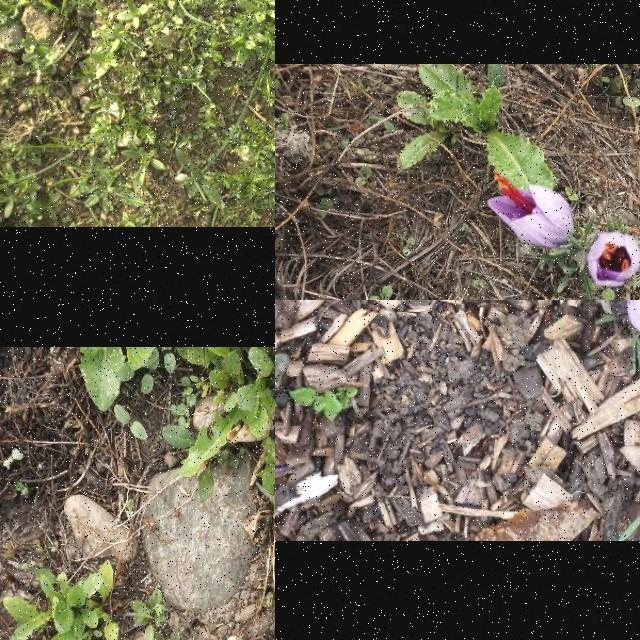flower: (486, 172, 576, 248), (587, 232, 640, 287), (626, 300, 640, 339)
